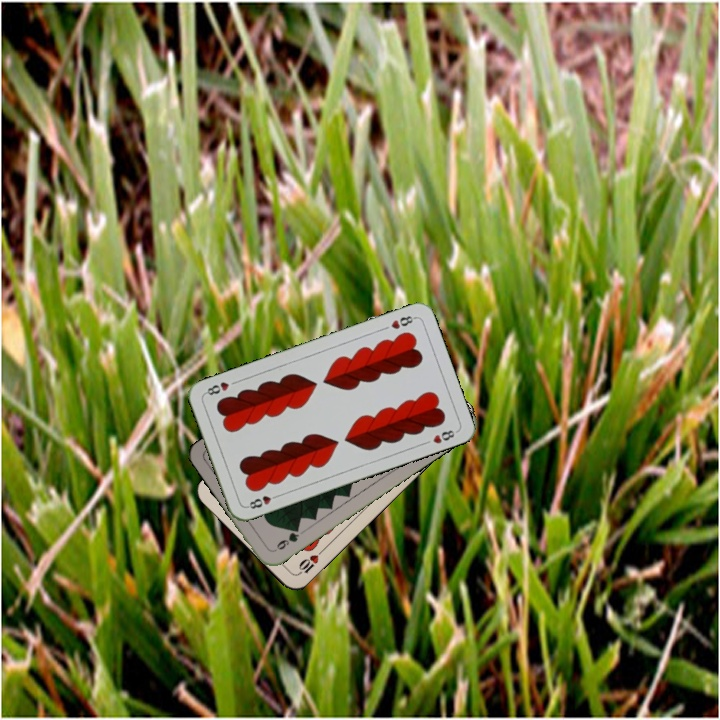G9: (270, 523, 302, 554)
H10: (294, 545, 326, 577)
H8: (243, 490, 282, 512), (387, 312, 418, 332)
